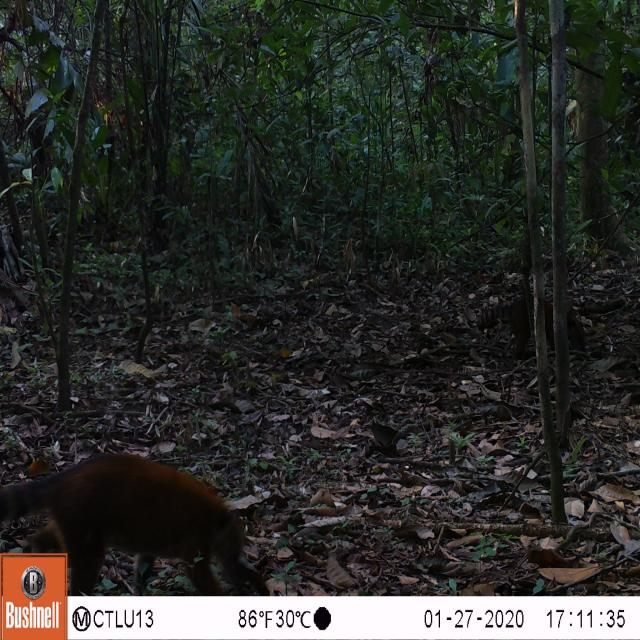South American Coati: (0, 436, 267, 597), (470, 278, 596, 374)
